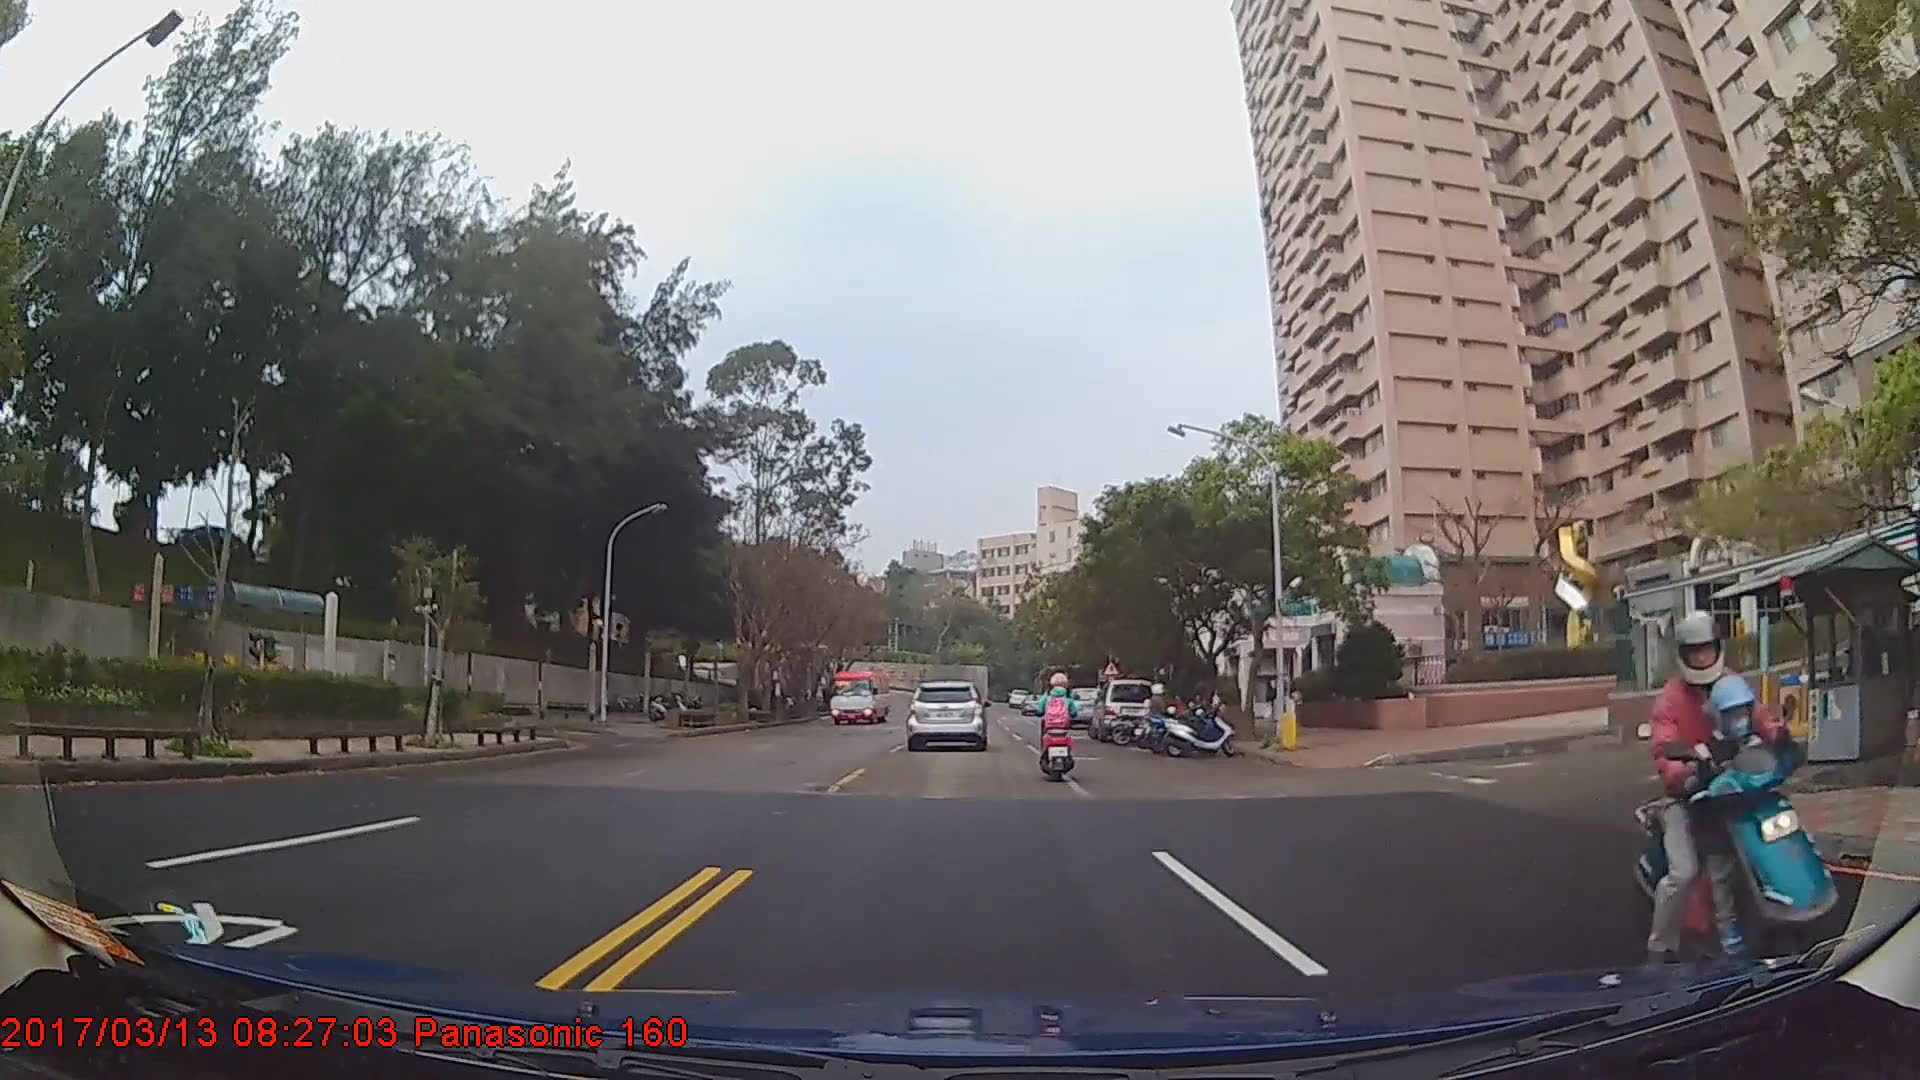rider: (1633, 607, 1834, 977), (1035, 666, 1081, 786), (1135, 684, 1179, 751)
vehicle: (906, 680, 986, 751), (1088, 679, 1154, 742), (826, 667, 889, 725)
